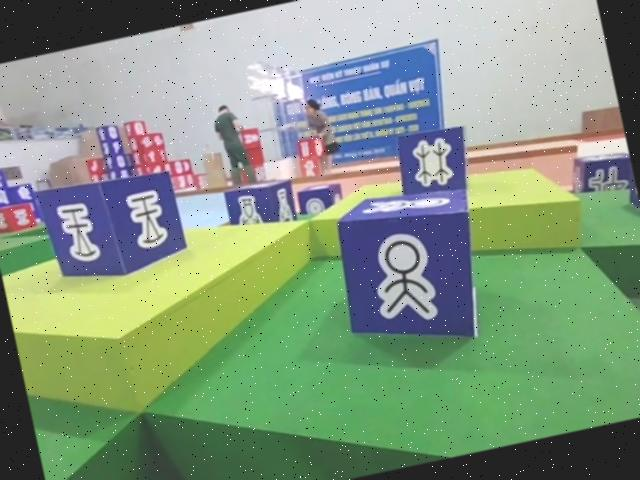R2 Real Blue: (328, 176, 500, 365), (32, 163, 189, 293), (389, 121, 475, 204), (223, 174, 299, 233), (563, 145, 636, 199), (297, 181, 347, 219)
